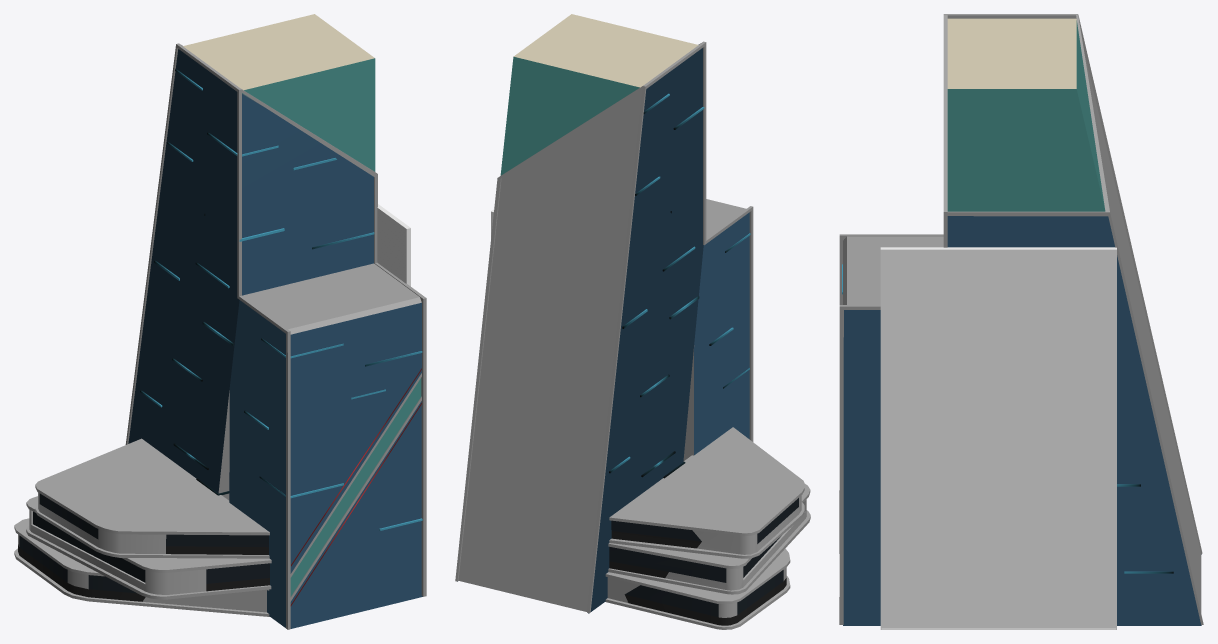
The model's file is Building_002_2st_L3.fbx.
The picture shows the model from 3 angles, left to right: view 1: azimuth 30°, elevation 25°; view 2: azimuth 150°, elevation 25°; view 3: azimuth 270°, elevation 25°; orthographic projection. The views are drawn at different scales.
Visible parts, largest first — view 1: Building_002_2st_L3; view 2: Building_002_2st_L3; view 3: Building_002_2st_L3.
Boxes of the visible parts, x1,y1,x2,y2 form: Building_002_2st_L3: (14, 14, 426, 629); Building_002_2st_L3: (455, 14, 810, 629); Building_002_2st_L3: (839, 14, 1203, 629).
Bounding box in the file's own units: 38.58 × 68.8 × 41.91.
